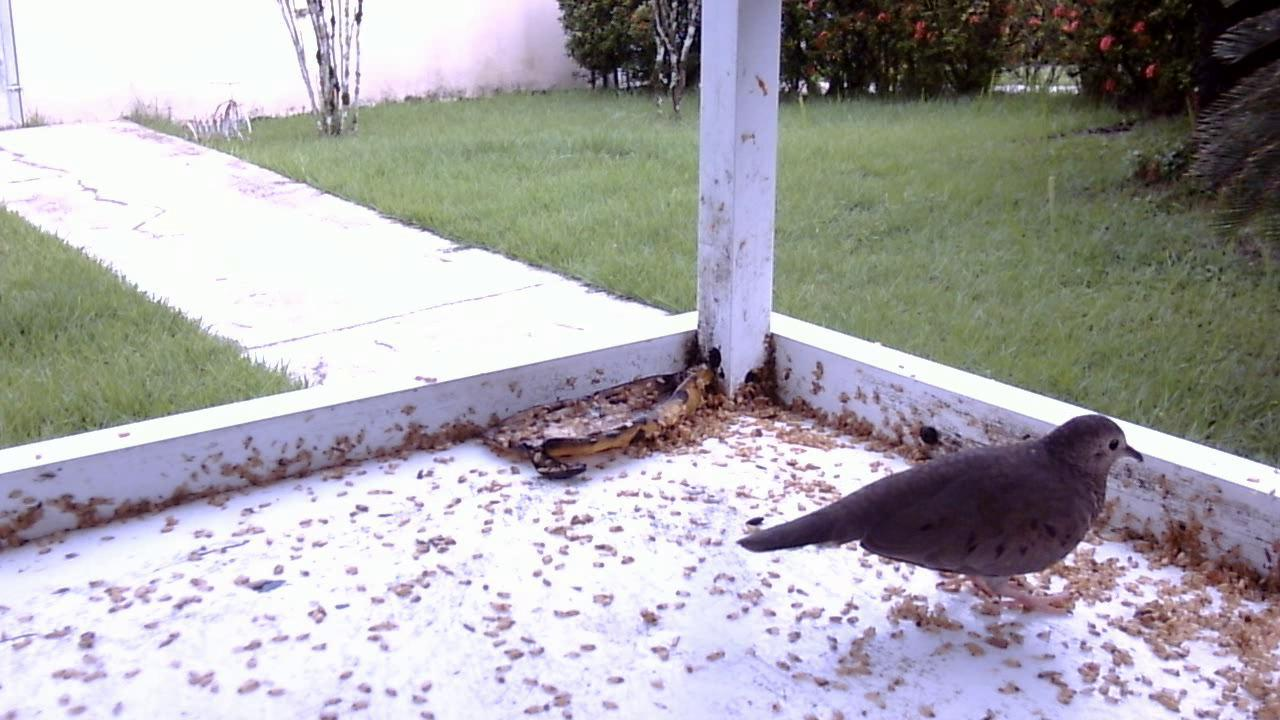rolinha: (721, 397, 1152, 619)
